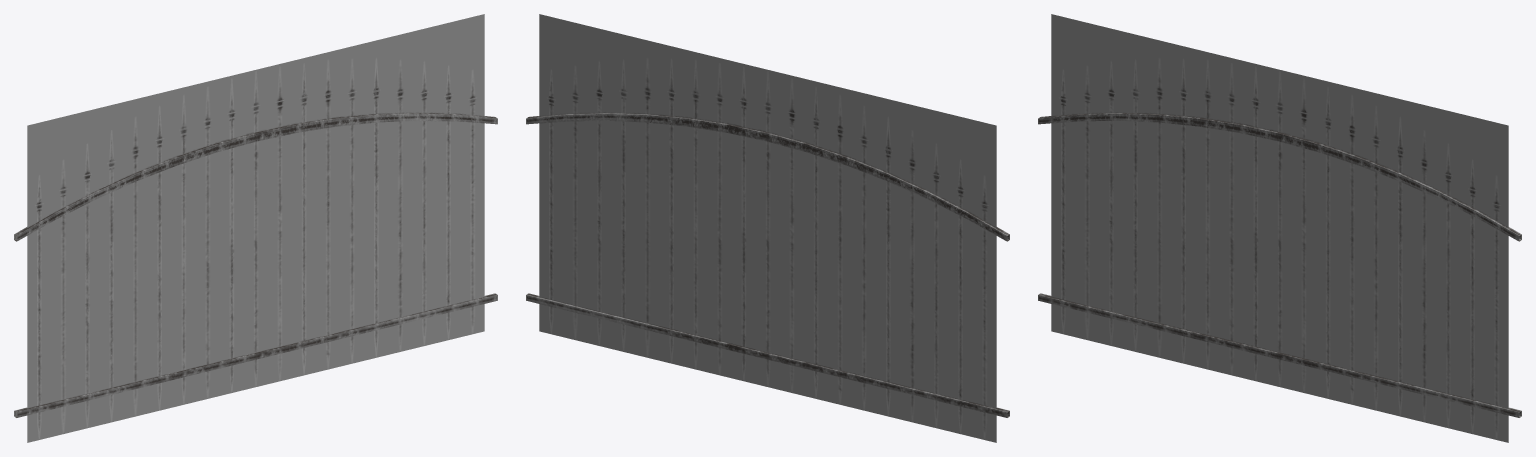
File: Metal Fence 4 LOD.fbx
3 renders of one model, left to right at view 1: azimuth 30°, elevation 25°; view 2: azimuth 150°, elevation 25°; view 3: azimuth 330°, elevation 25°, orthographic.
Parts seen in each view (by area): view 1: Metal Fence 4 LOD; view 2: Metal Fence 4 LOD; view 3: Metal Fence 4 LOD.
Boxes of the visible parts, x1,y1,x2,y2 form: Metal Fence 4 LOD: (14,14,497,442); Metal Fence 4 LOD: (526,14,1009,442); Metal Fence 4 LOD: (1038,14,1521,442).
Size of the model in its own units: 400 by 252 by 3.57.
Materials: 1 (1 with a texture image).
